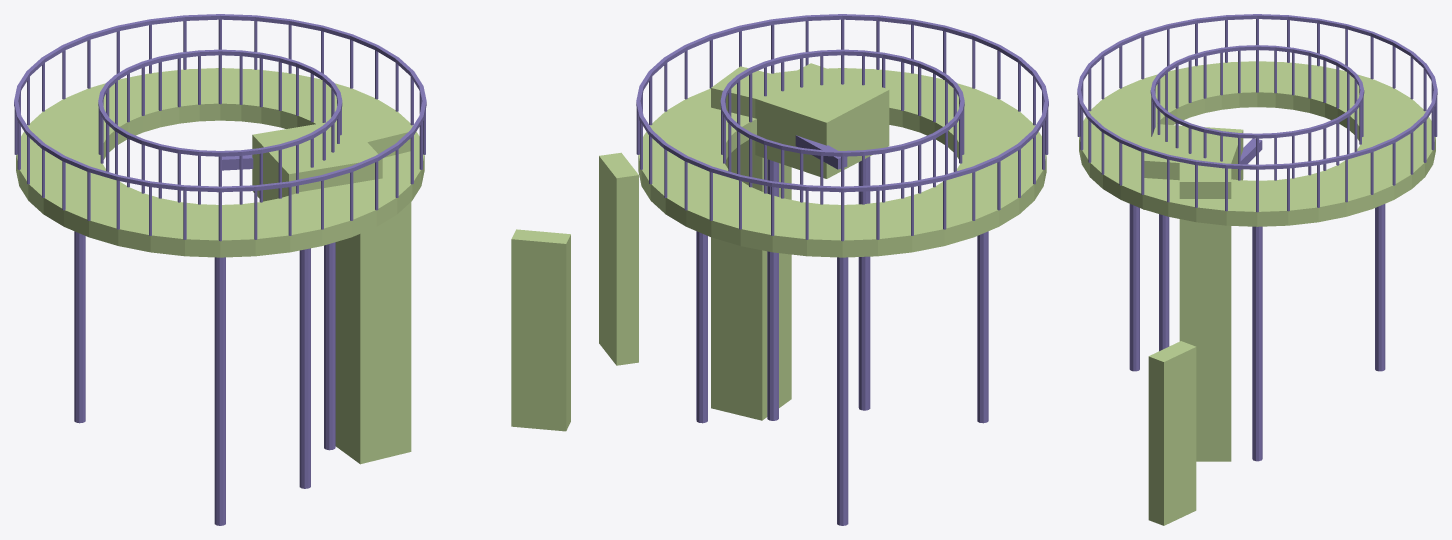
Rendered from folie_tag_074.glb.
3 views of the same model, side by side, from view 1: azimuth 30°, elevation 25°; view 2: azimuth 150°, elevation 25°; view 3: azimuth 270°, elevation 25° (orthographic). The views are drawn at different scales.
Visible parts, largest first — view 1: folie_tag_074_00_ring, folie_tag_074_line, folie_tag_074_core, folie_tag_074_01_fin, folie_tag_074_02_block; view 2: folie_tag_074_00_ring, folie_tag_074_line, folie_tag_074_core, folie_tag_074_02_block, folie_tag_074_01_fin; view 3: folie_tag_074_00_ring, folie_tag_074_line, folie_tag_074_core, folie_tag_074_01_fin, folie_tag_074_02_block.
Boxes of the visible parts, box(x1,y1,x2,y2) form: folie_tag_074_00_ring: box(16, 68, 424, 257); folie_tag_074_line: box(14, 14, 426, 525); folie_tag_074_core: box(334, 110, 411, 464); folie_tag_074_01_fin: box(511, 229, 570, 431); folie_tag_074_02_block: box(252, 119, 382, 201); folie_tag_074_00_ring: box(638, 68, 1046, 257); folie_tag_074_line: box(636, 14, 1048, 525); folie_tag_074_core: box(711, 66, 791, 420); folie_tag_074_02_block: box(748, 63, 889, 178); folie_tag_074_01_fin: box(599, 152, 638, 365); folie_tag_074_00_ring: box(1079, 61, 1435, 226); folie_tag_074_line: box(1077, 14, 1437, 461); folie_tag_074_core: box(1179, 160, 1231, 461); folie_tag_074_01_fin: box(1148, 341, 1196, 525); folie_tag_074_02_block: box(1143, 124, 1243, 209).
Bounding box in the file's own units: 10.22 × 7.26 × 7.68.
